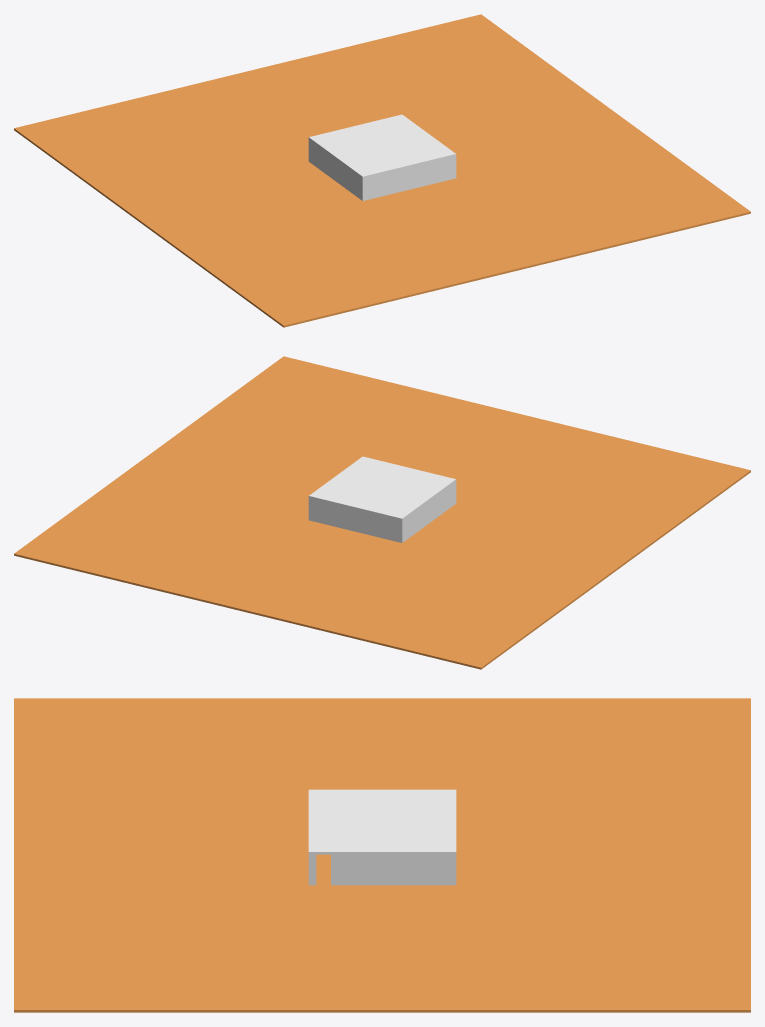
Rendered from two-rooms.glb.
3 views of the same model, one above another, from view 1: azimuth 30°, elevation 25°; view 2: azimuth 150°, elevation 25°; view 3: azimuth 270°, elevation 25° (orthographic). The views are drawn at different scales.
Visible parts, largest first — view 1: two-rooms-plane; view 2: two-rooms-plane; view 3: two-rooms-plane.
Boxes of the visible parts, bbox=[...] form: two-rooms-plane: bbox=[14, 14, 750, 327]; two-rooms-plane: bbox=[14, 356, 750, 669]; two-rooms-plane: bbox=[14, 698, 750, 1012].
Bounding box in the file's own units: 1000 × 54 × 1000.
